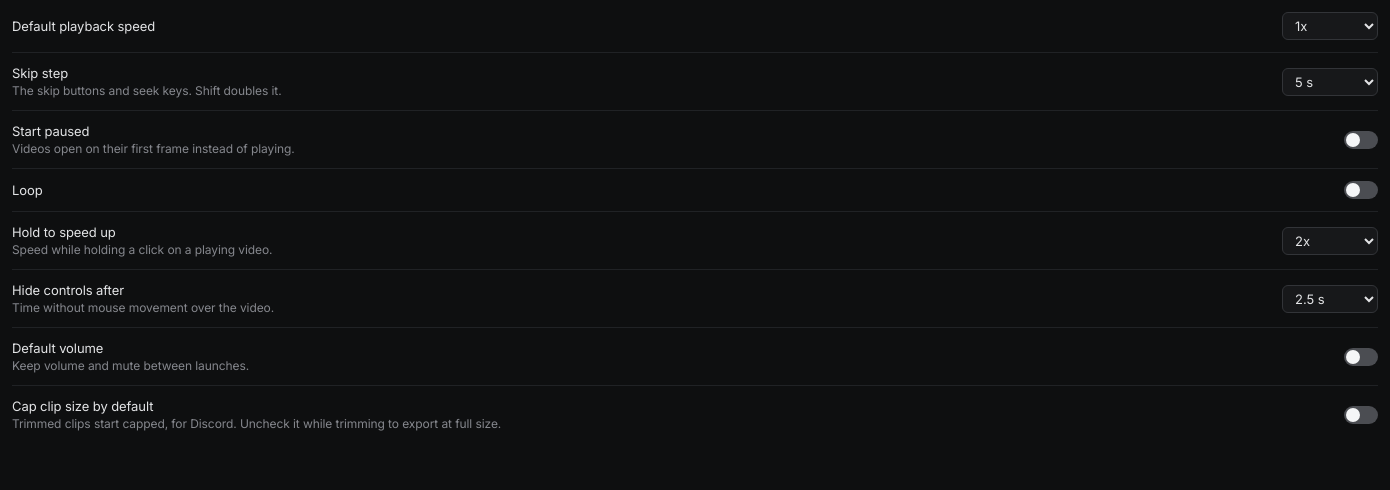
it: VideoSettings › shows a 10 to 100 MB size slider only while the cap is on by default, with its value
Click the switch in the row of "Cap clip size by default": (1361,414) [1344, 406, 1378, 424]
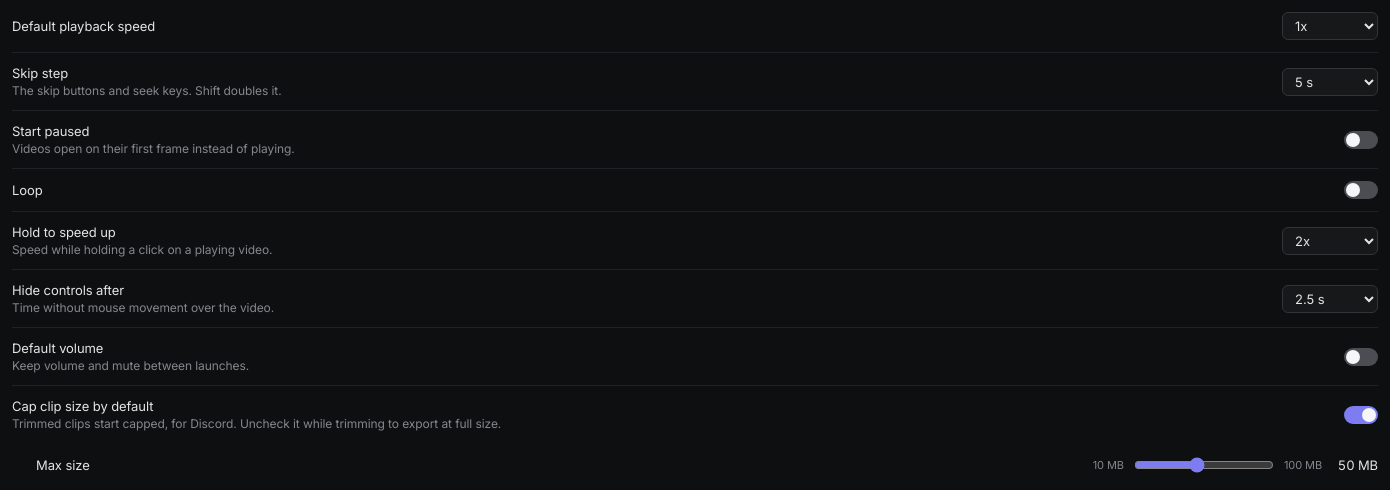
Check: the text with class "setting-label" reads "Max size", box [36, 457, 90, 473]
Check: the elements with class "cap-end" read "10 MB", "100 MB", in this order, box [1093, 458, 1124, 472]; [1284, 458, 1322, 472]
Check: the text with class "cap-value" reads "50 MB", box [1338, 457, 1378, 473]
Set the slider to "25": (1163,465) [1134, 457, 1274, 473]
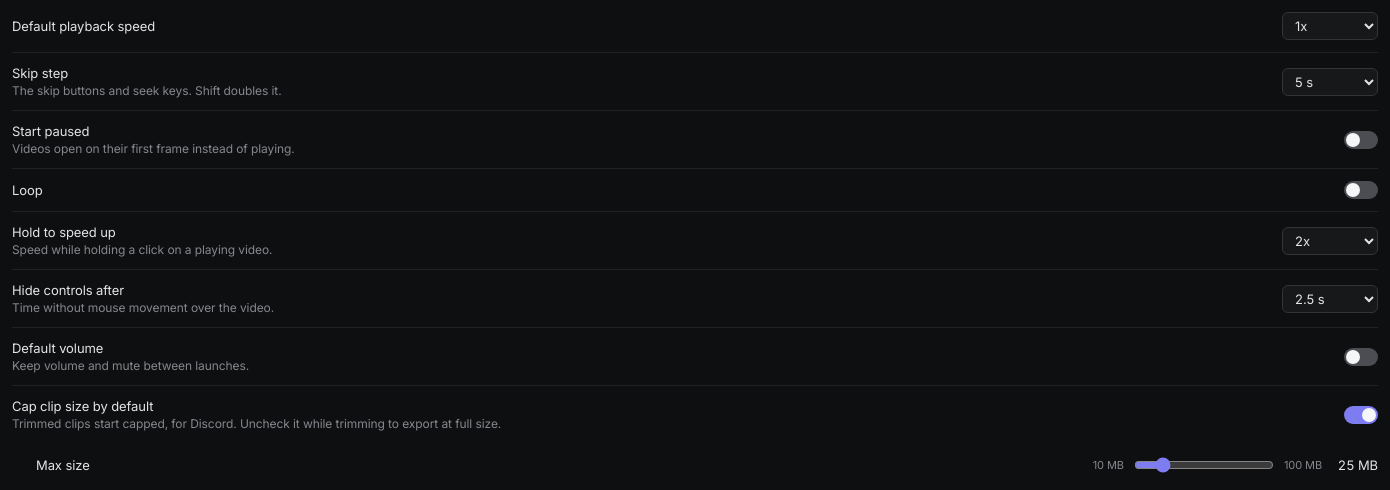
Check: the text with class "cap-value" reads "25 MB", box [1338, 457, 1378, 473]
